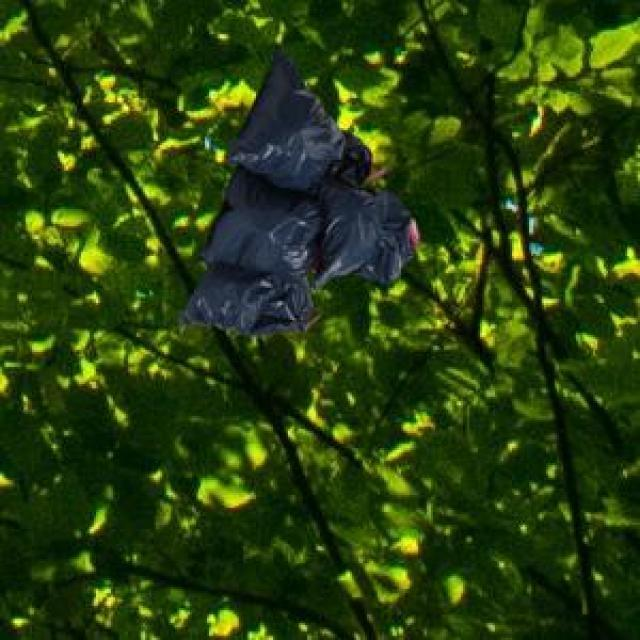miscellaneous trash: (175, 43, 414, 333)
